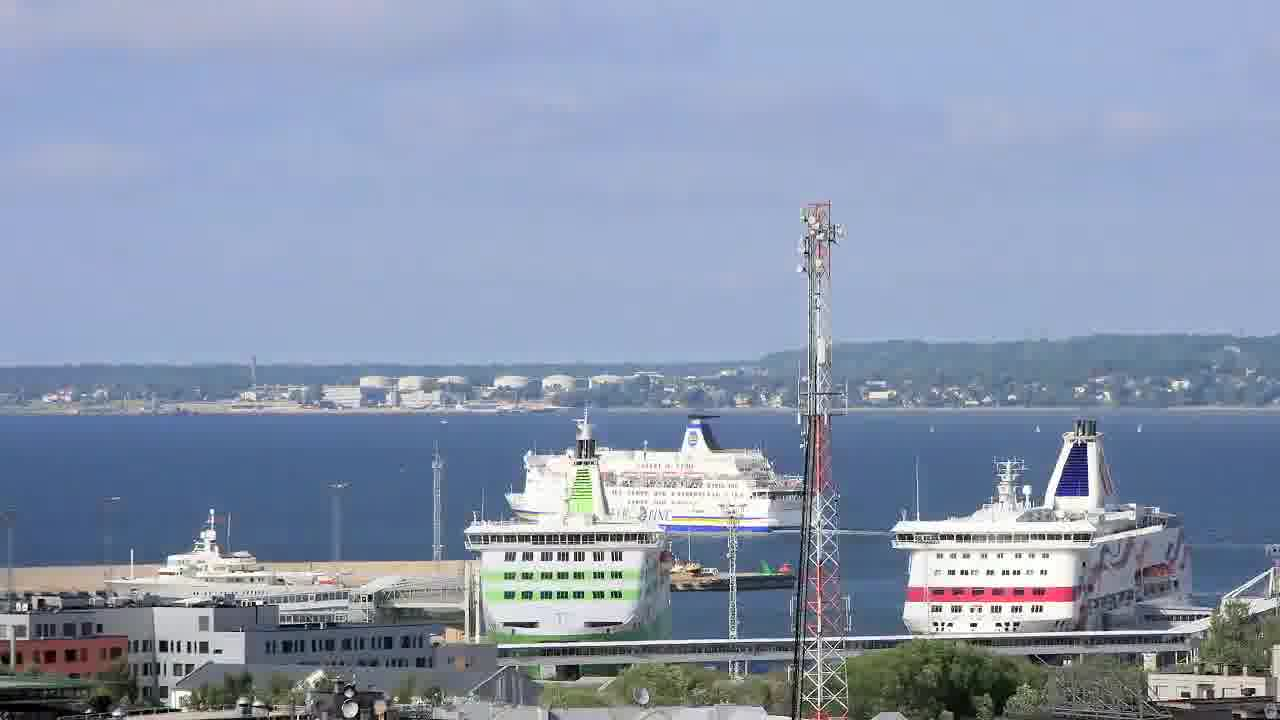type-3: (868, 415, 1225, 638), (436, 434, 694, 670), (497, 403, 843, 544), (98, 509, 338, 621)
